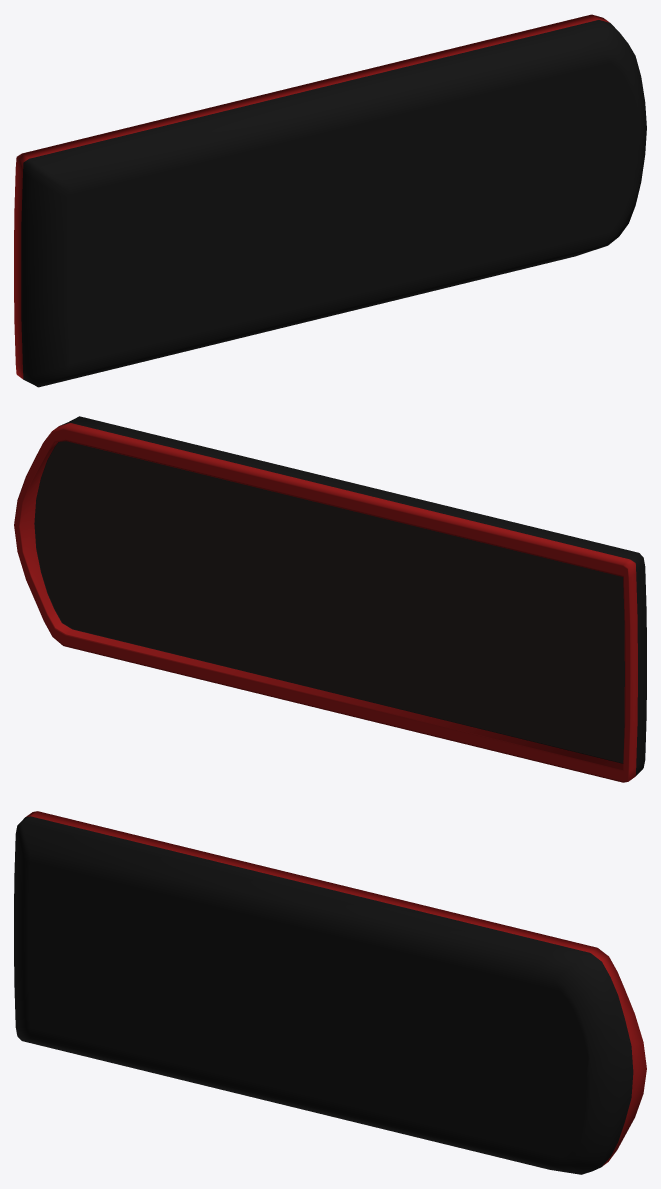
Rendered from Ship 2x12.fbx.
3 renders of one model, top to bottom at view 1: azimuth 30°, elevation 25°; view 2: azimuth 150°, elevation 25°; view 3: azimuth 330°, elevation 25°, orthographic.
Parts seen in each view (by area): view 1: Ship 2*12; view 2: Ship 2*12; view 3: Ship 2*12.
Boxes of the visible parts, x1,y1,x2,y2 form: Ship 2*12: (14,14,646,387); Ship 2*12: (14,416,646,782); Ship 2*12: (14,811,646,1174).
Size of the model in its own units: 1862 by 144 by 629.
